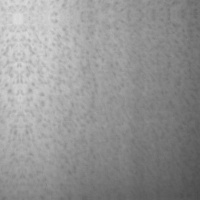pitted_surface: (18, 14, 199, 198)
